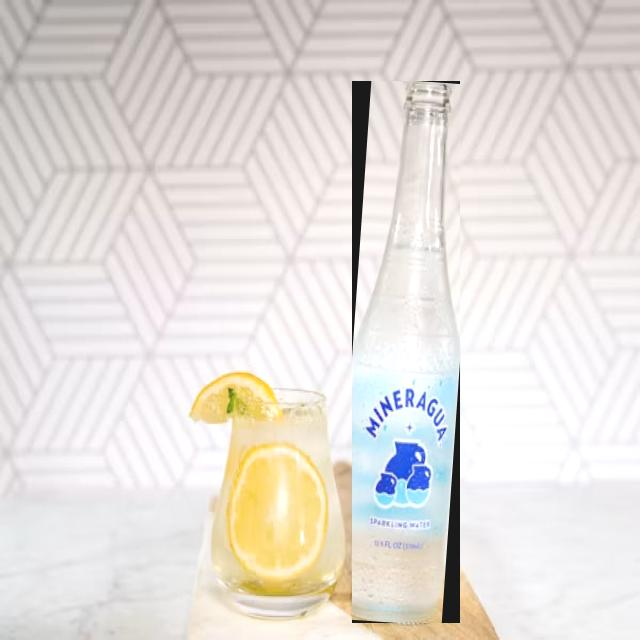Bottle: (352, 82, 459, 622)
